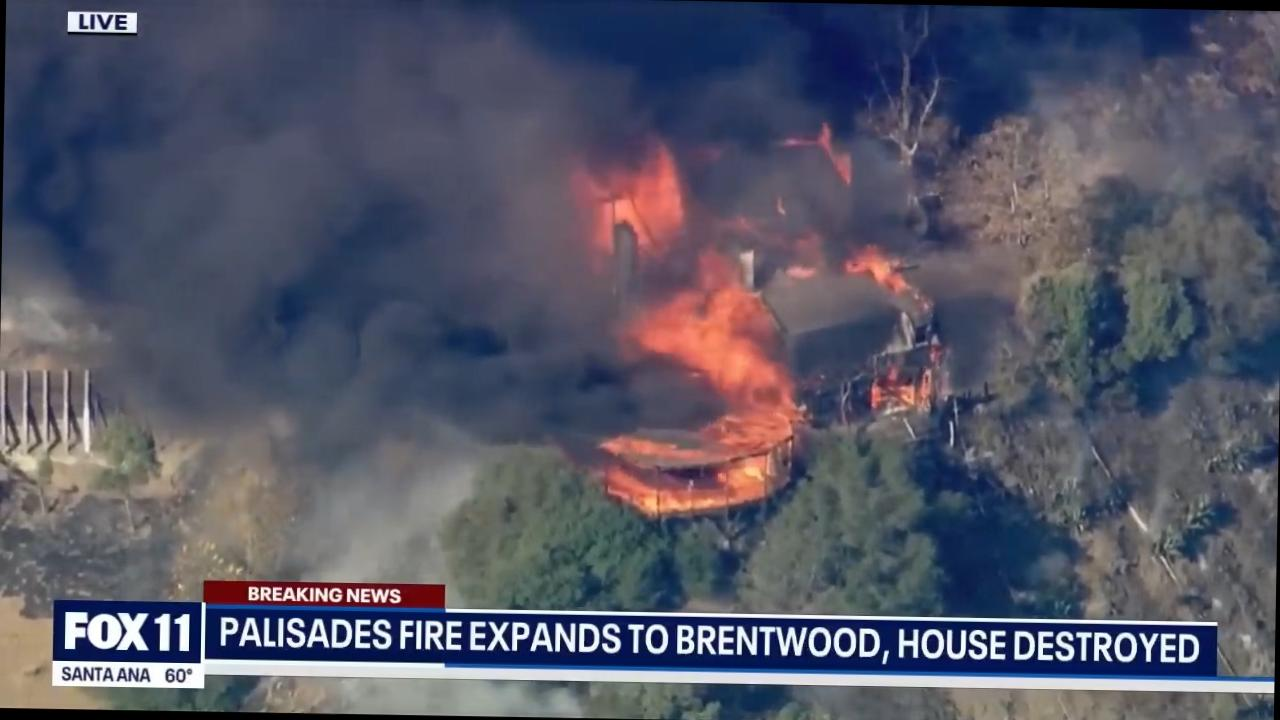Smoke: (0, 33, 724, 431)
